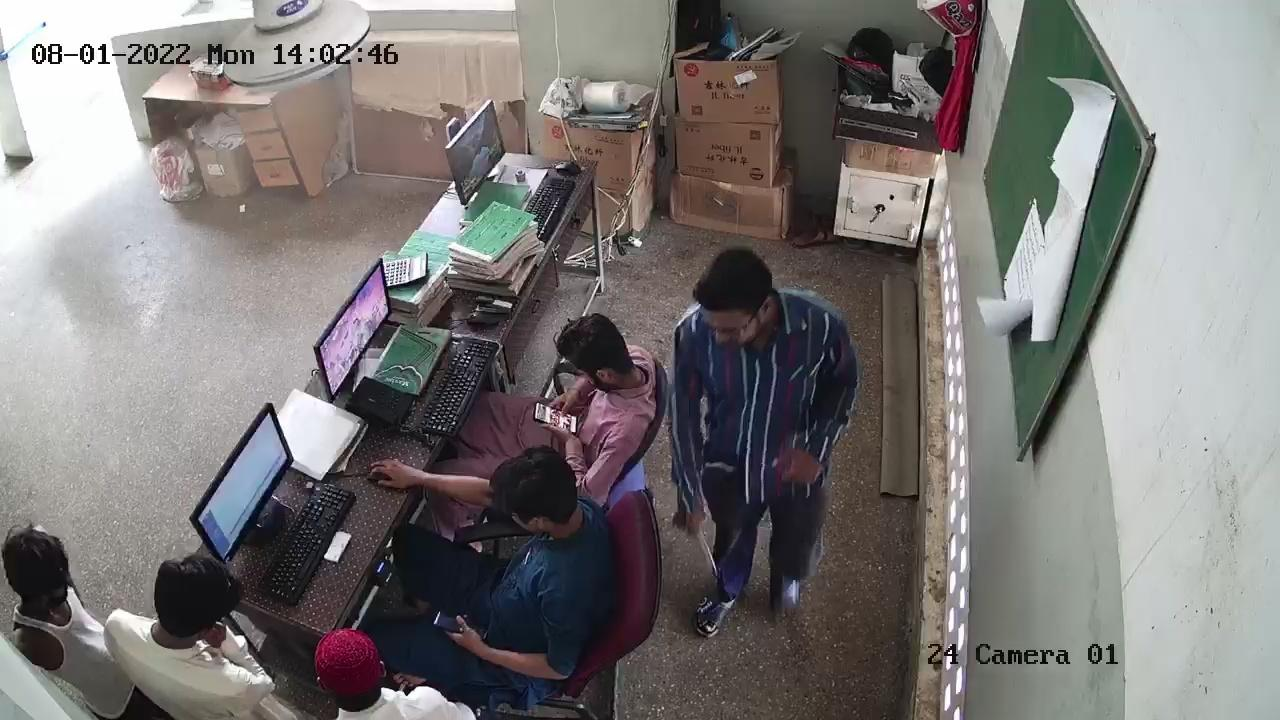person: (674, 257, 839, 612), (379, 447, 592, 663), (477, 318, 649, 457), (114, 552, 262, 697), (9, 527, 124, 687), (289, 628, 430, 715)
